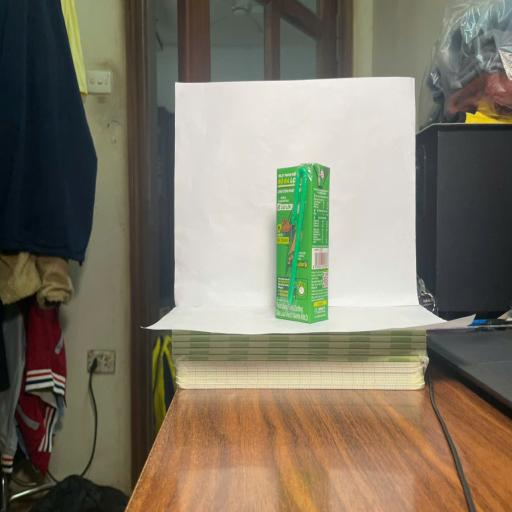milo: (274, 161, 330, 322)
